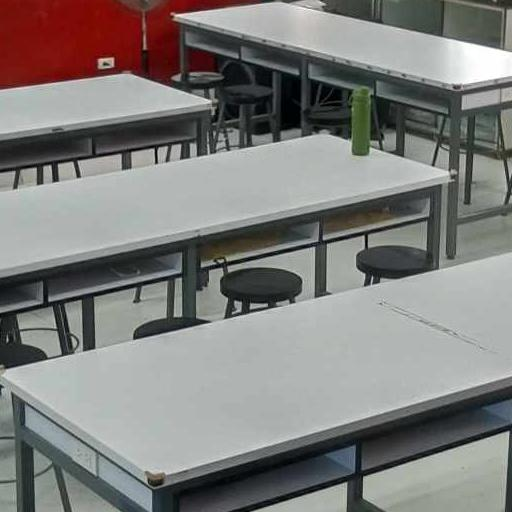Fan: (99, 0, 174, 21)
